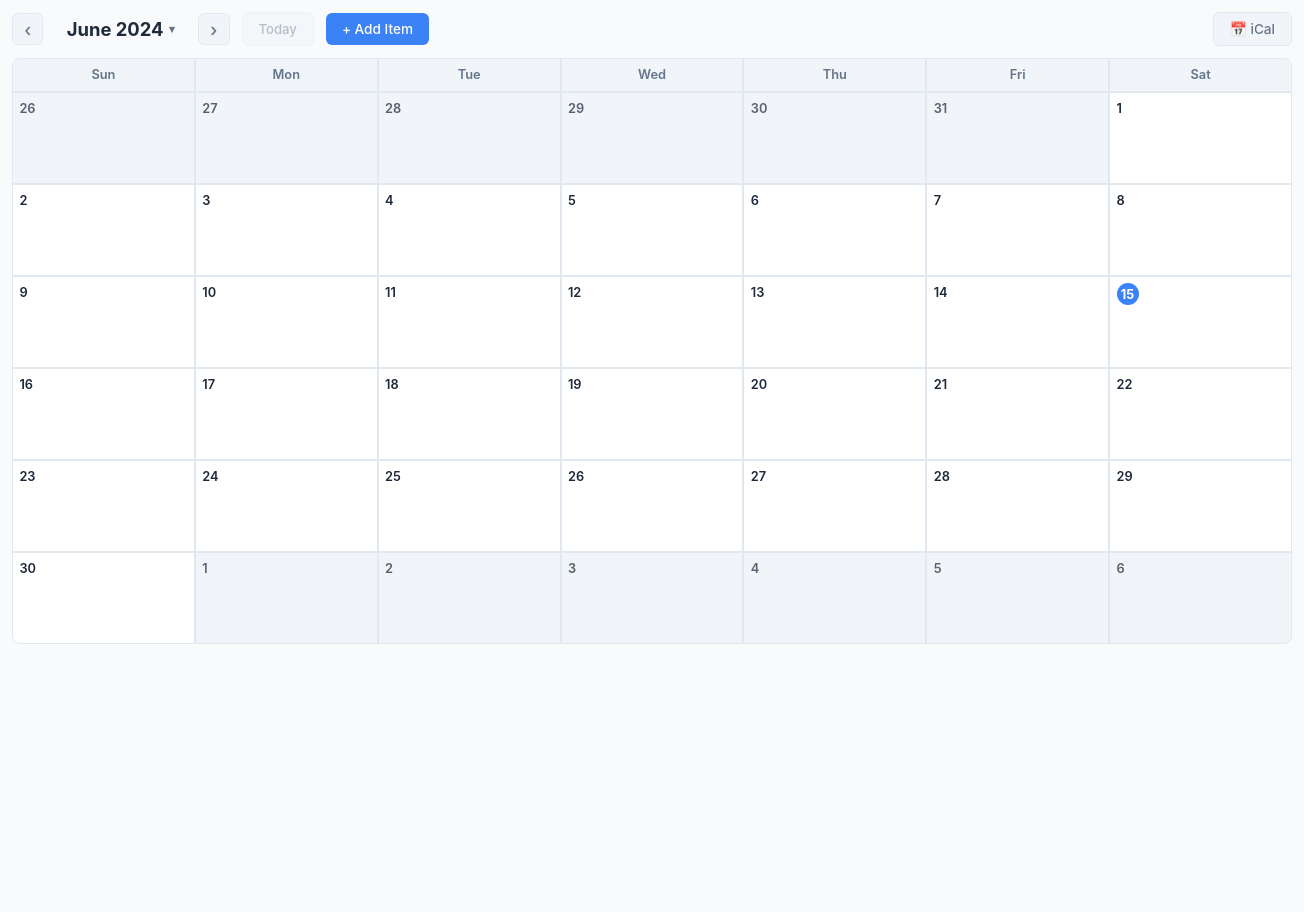
it: CalendarView › navigates back to today when Today button is clicked
Note: Go to previous month
Click the button with class "nav-btn" showing "‹": click(28, 29) [12,13,43,45]
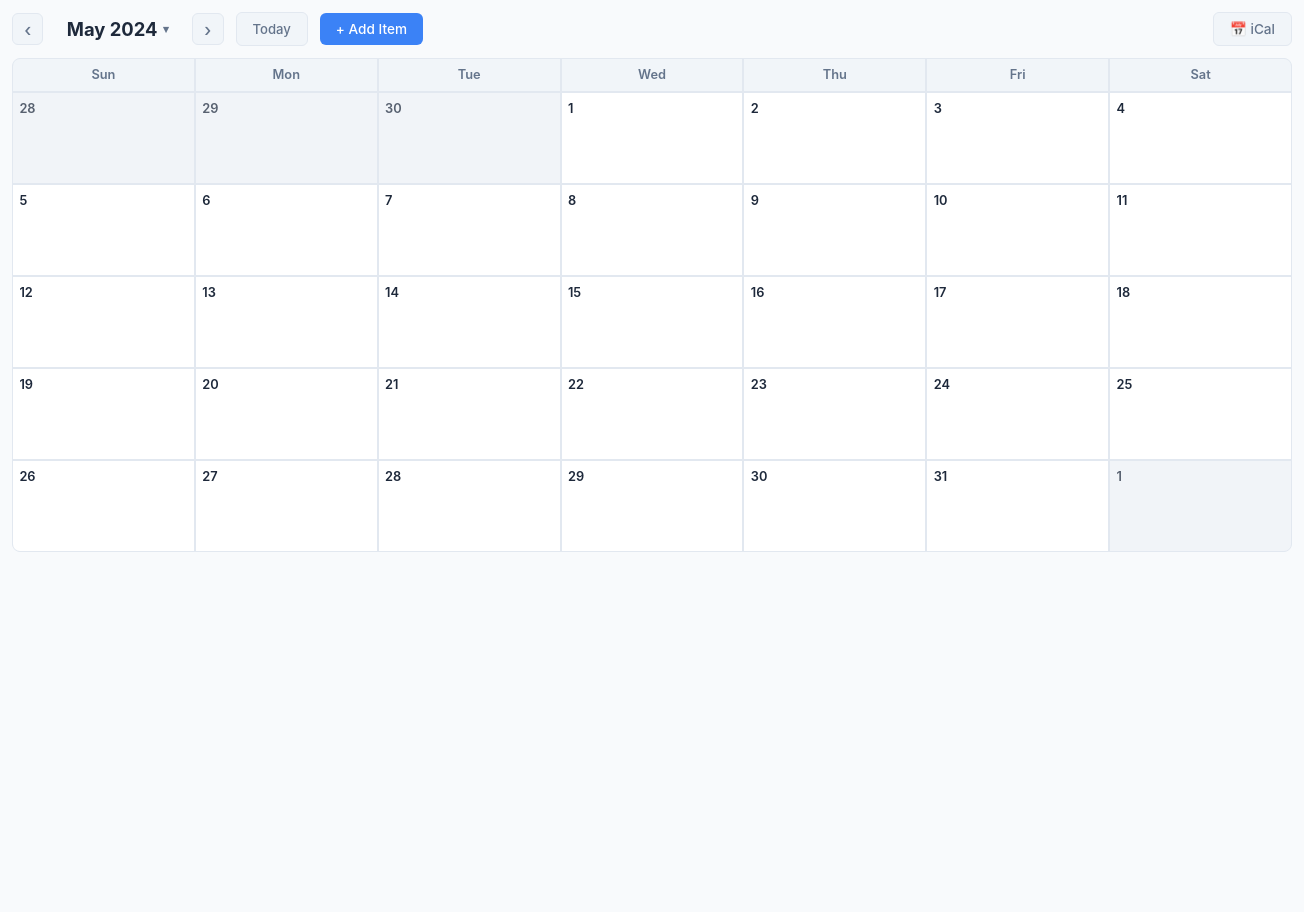
expect the text "May 2024" is shown: met, box [55,12,180,46]
Note: Click Today
Click the button with class "today-btn": click(272, 29) [236,12,308,46]
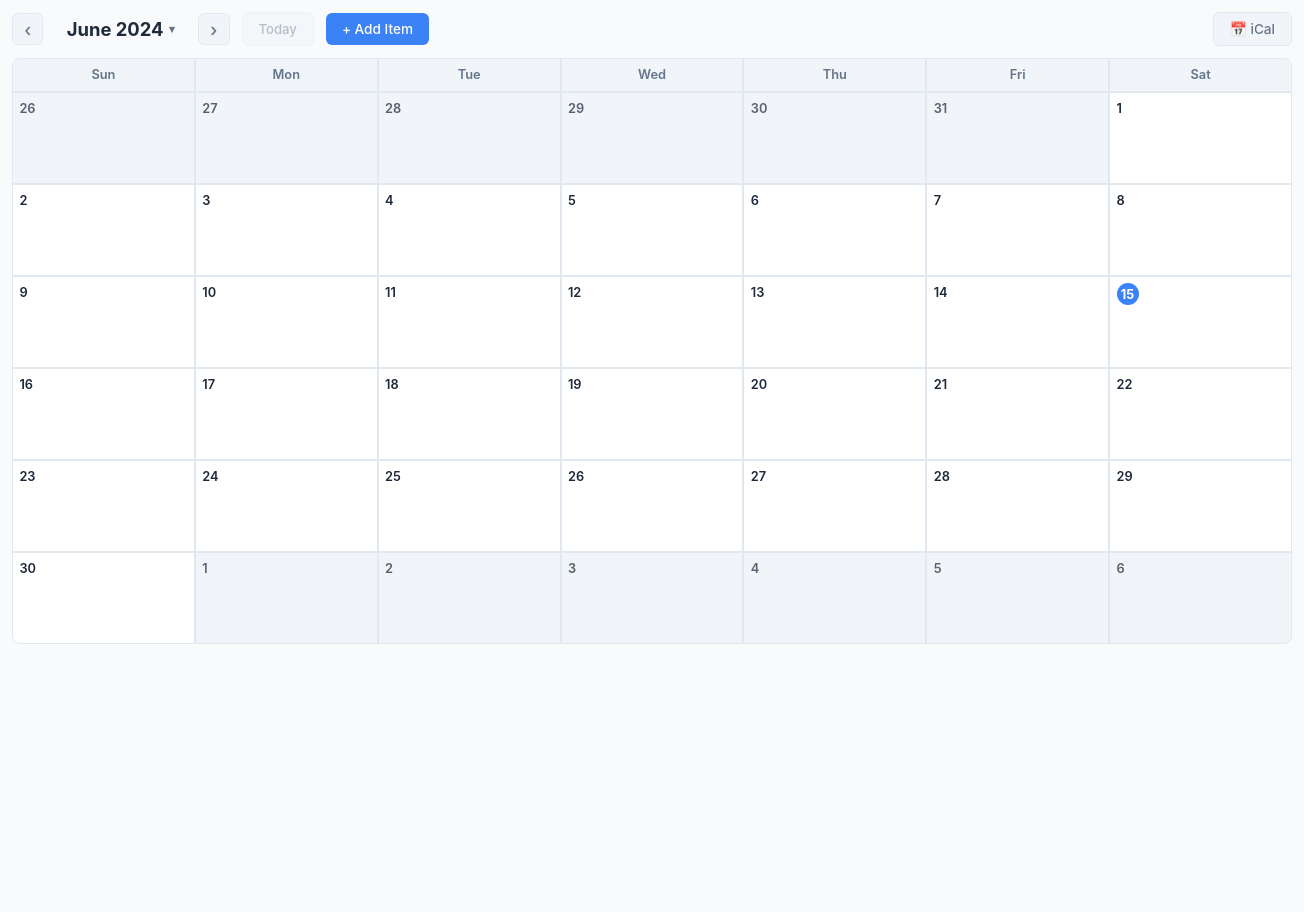
expect the text "June 2024" is shown: met, box [55,12,186,46]
